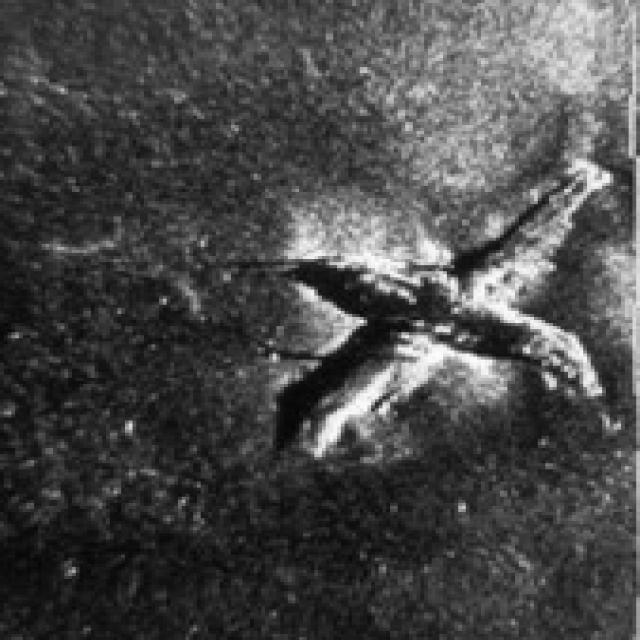plane: (220, 134, 628, 491)
